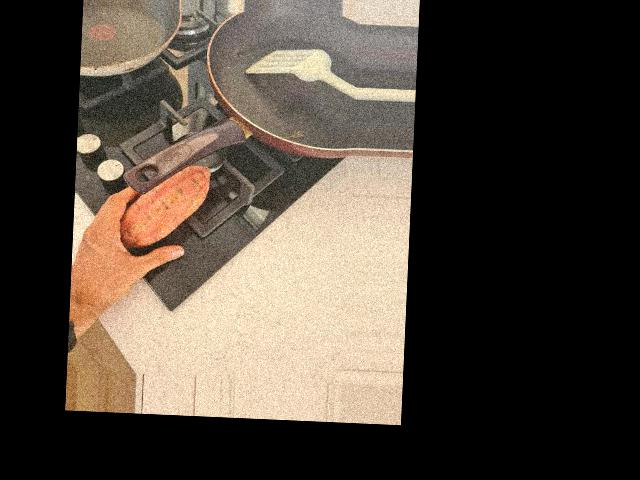sweet_potato: (120, 159, 213, 252)
